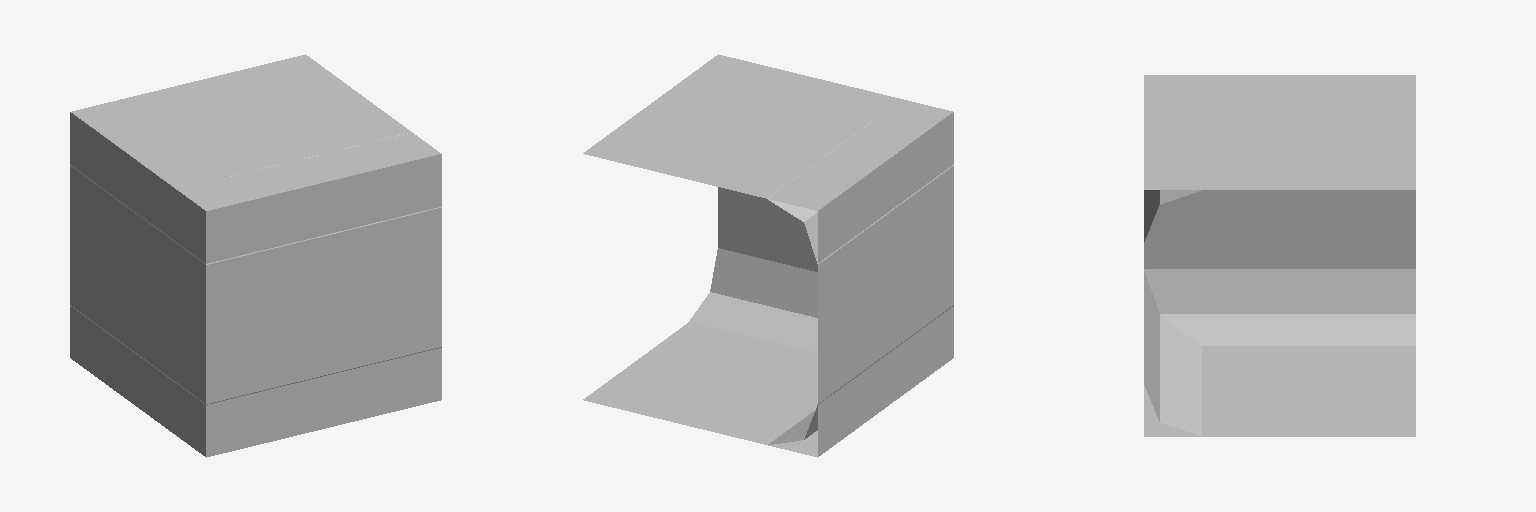
File: corner_top_left_floor.obj
The picture shows the model from 3 angles: view 1: azimuth 30°, elevation 25°; view 2: azimuth 150°, elevation 25°; view 3: azimuth 270°, elevation 25°; orthographic projection.
Parts seen in each view (by area): view 1: Plane, Plane.003; view 2: Plane, Plane.003; view 3: Plane, Plane.003.
Boxes of the visible parts, x1=… form: Plane: x1=70, y1=112, x2=441, y2=457; Plane.003: x1=70, y1=54, x2=441, y2=264; Plane: x1=583, y1=112, x2=953, y2=457; Plane.003: x1=583, y1=54, x2=953, y2=264; Plane: x1=1144, y1=190, x2=1415, y2=436; Plane.003: x1=1144, y1=75, x2=1415, y2=241.
Bounding box in the file's own units: 2.01 × 2 × 2.01.